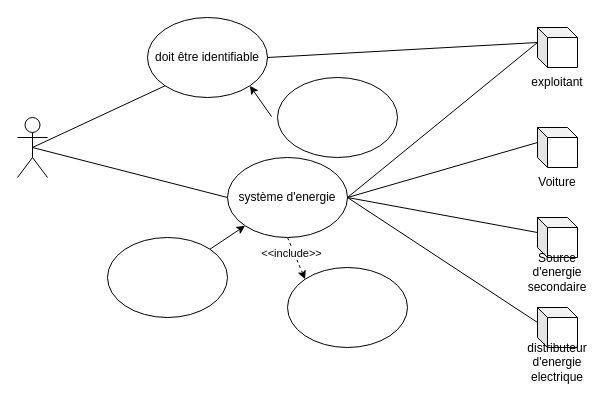
The diagram is 605 pixels wide and 401 high, and some of its shapes have lost their labels. Each missing label, with the box of its shape:
Agent: (16, 116, 48, 178)
par carte RFID: (276, 76, 398, 158)
